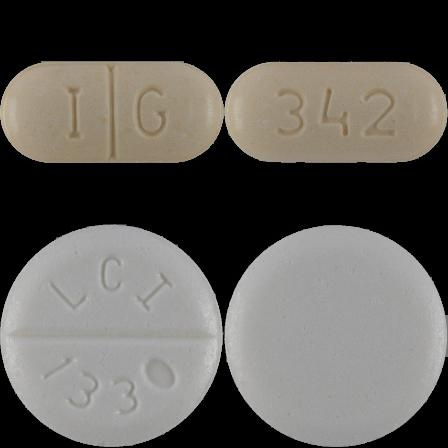61786-158: (0, 0, 224, 224)
